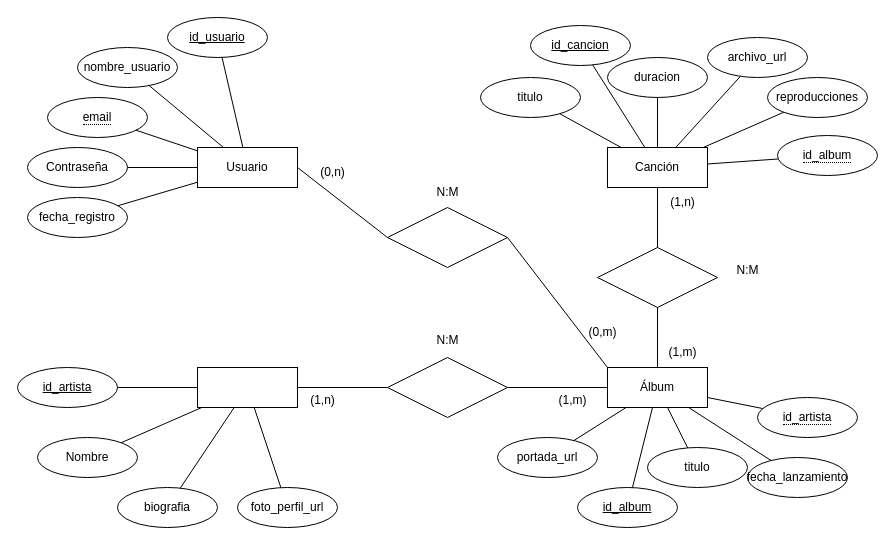
This 895x545 diagram has some shape labels left out. The box of each missing label's shape, as (x1, y1, x2, y2) in pixels:
Artista: (196, 366, 298, 408)
Comprar: (386, 206, 508, 268)
Contener: (596, 246, 718, 308)
Pertenecer: (386, 356, 508, 418)
